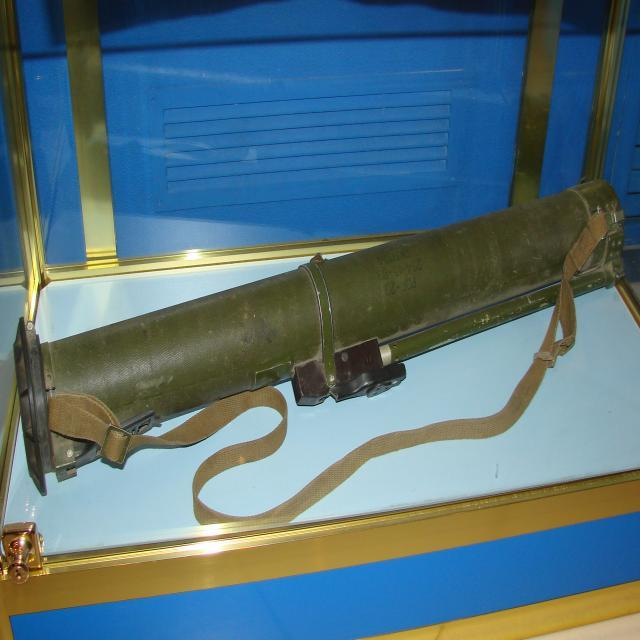rocket: (7, 174, 640, 491)
